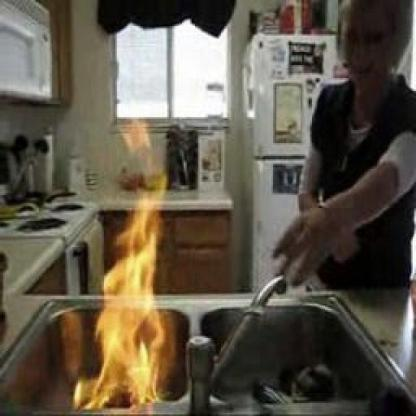fire: (90, 118, 173, 412)
